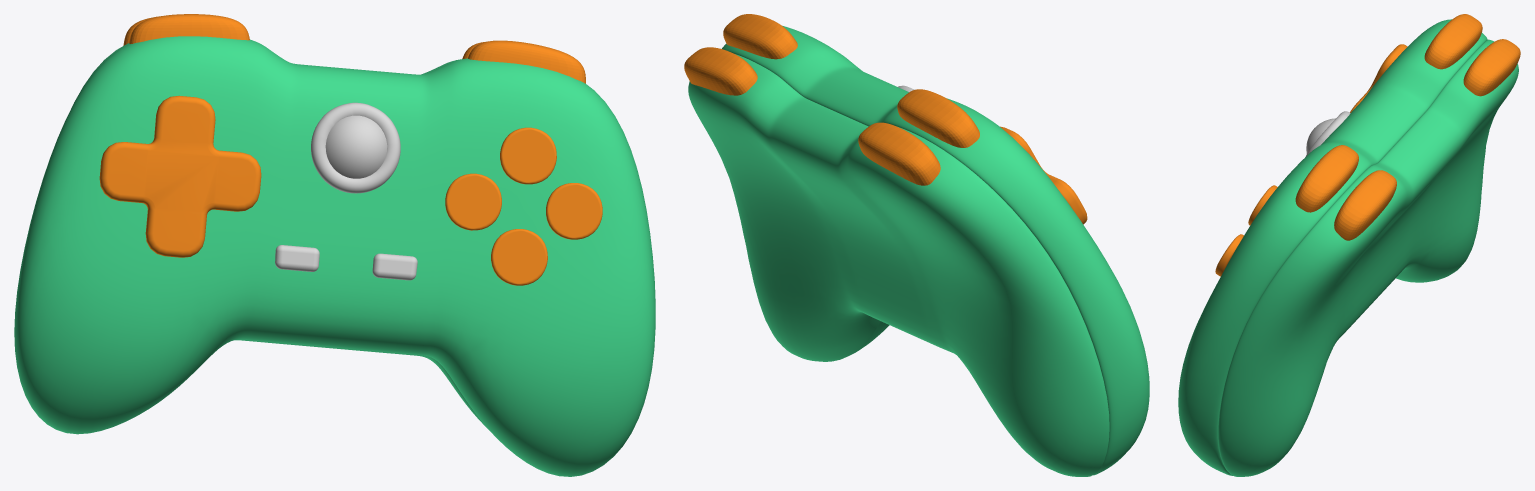
Rendered from gamepad-3d-icon-676723583218.glb.
The picture shows the model from 3 angles, left to right: view 1: azimuth 30°, elevation 25°; view 2: azimuth 150°, elevation 25°; view 3: azimuth 270°, elevation 25°; orthographic projection. The views are drawn at different scales.
Parts seen in each view (by area): view 1: Body, Button 1, Button 2; view 2: Body, Button 1; view 3: Body, Button 1, Button 2.
Part boxes in pixels (x1=…): Body: x1=14, y1=36, x2=655, y2=476; Button 1: x1=99, y1=14, x2=602, y2=285; Button 2: x1=275, y1=102, x2=417, y2=280; Body: x1=688, y1=25, x2=1149, y2=476; Button 1: x1=684, y1=14, x2=1087, y2=224; Body: x1=1178, y1=19, x2=1518, y2=476; Button 1: x1=1215, y1=14, x2=1520, y2=276; Button 2: x1=1305, y1=111, x2=1350, y2=157.
Size of the model in its own units: 3.37 by 2.58 by 2.29.
